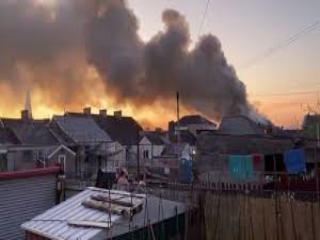smoke: (86, 11, 262, 119)
